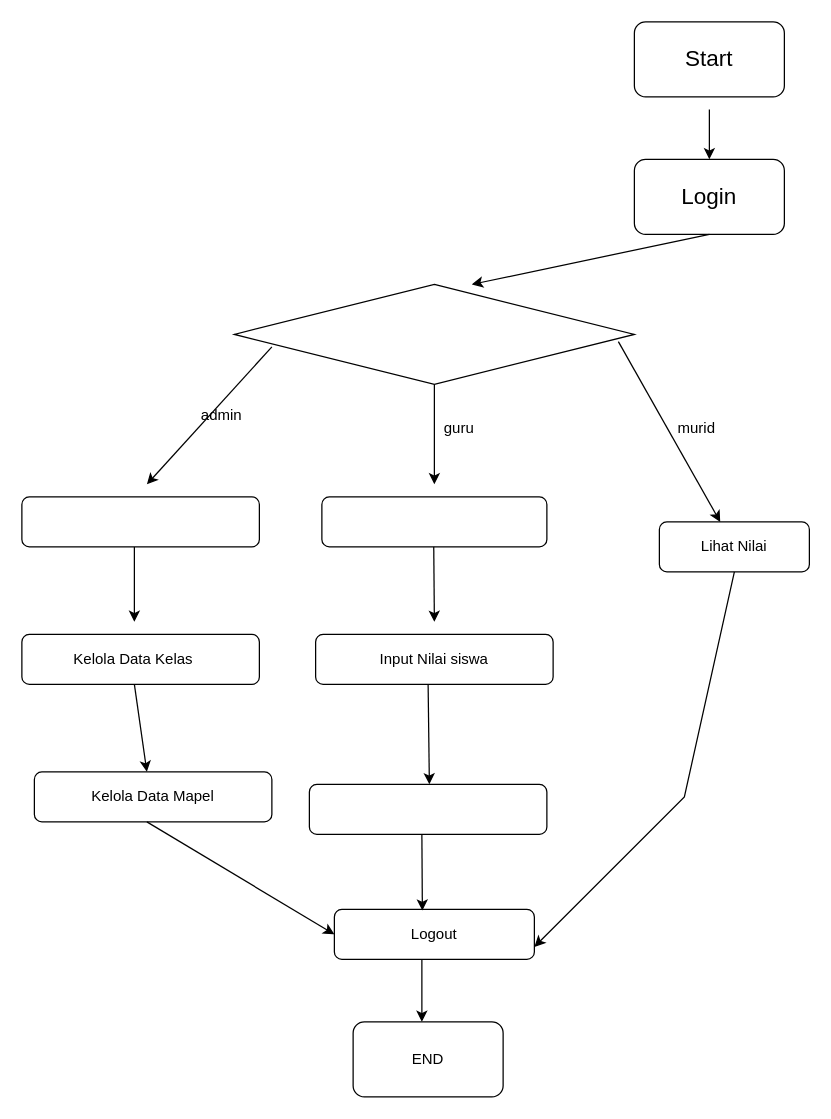
This 831x1119 diagram has some shape labels left out. Here are the shapes that lost their labels. From the top down, the centre of each, then its label:
At point (433, 333): "siapa usernya".
At point (140, 521): "Kelola Data User".
At point (434, 521): "Pilih Kelas dan Mapel".
At point (427, 808): "Lihat Rekap Nilai".
